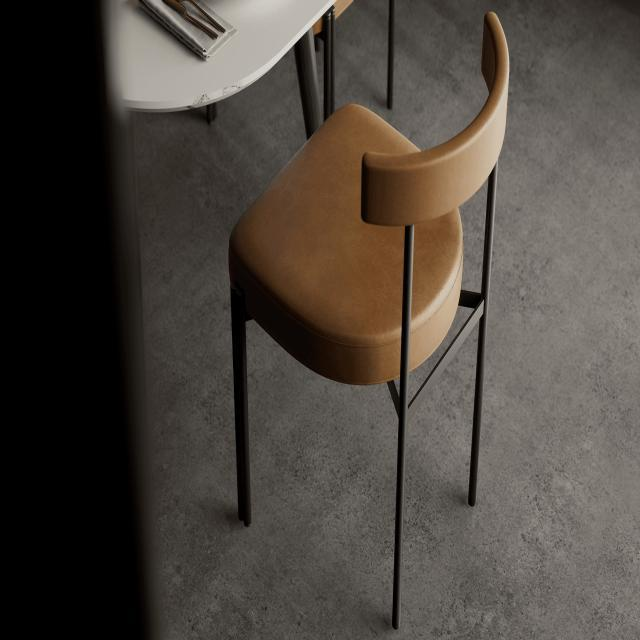chair: (227, 1, 512, 628), (223, 0, 519, 393)
